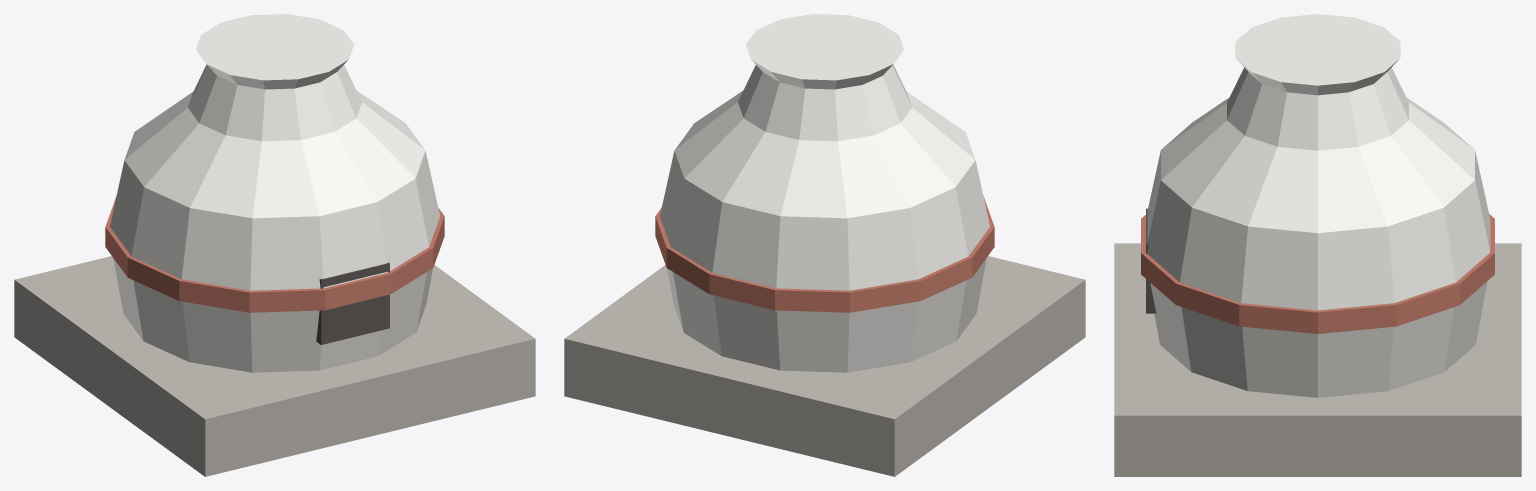
3 views of the same model, side by side, from view 1: azimuth 30°, elevation 25°; view 2: azimuth 150°, elevation 25°; view 3: azimuth 270°, elevation 25° (orthographic). The views are drawn at different scales.
Parts seen in each view (by area): view 1: WB_sang_1.45; view 2: WB_sang_1.45; view 3: WB_sang_1.45.
Part boxes in pixels (box(x1,y1,x2,y2)): WB_sang_1.45: box(14, 14, 535, 476); WB_sang_1.45: box(564, 14, 1085, 476); WB_sang_1.45: box(1114, 14, 1521, 476).
Bounding box in the file's own units: 3.48 × 3.22 × 3.48.
